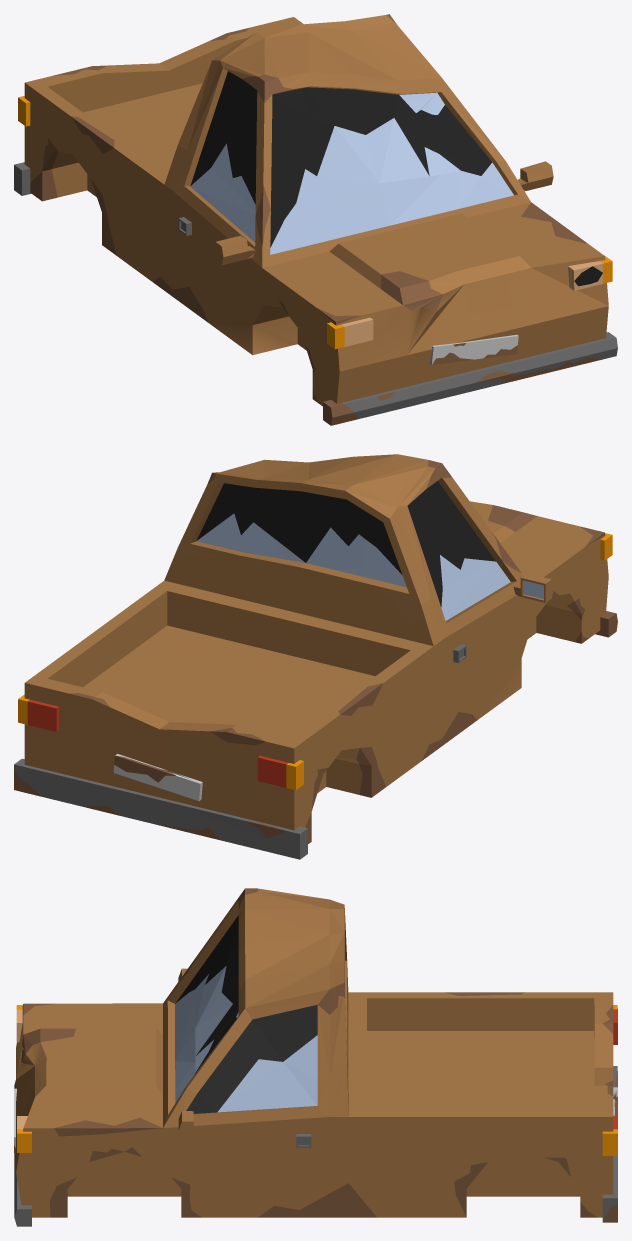
Rendered from OldCar_04.glb.
3 renders of one model, top to bottom at view 1: azimuth 30°, elevation 25°; view 2: azimuth 150°, elevation 25°; view 3: azimuth 270°, elevation 25°, orthographic. The views are drawn at different scales.
Parts seen in each view (by area): view 1: OldCar_04; view 2: OldCar_04; view 3: OldCar_04.
Part boxes in pixels (<box>): OldCar_04: <box>14,14,617,425</box>; OldCar_04: <box>14,454,617,859</box>; OldCar_04: <box>14,888,617,1226</box>.
Bounding box in the file's own units: 1.96 × 1.38 × 3.28.
1 material, 1 textured.
